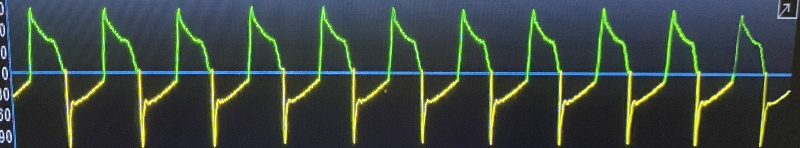peepi: (2, 1, 778, 148)
